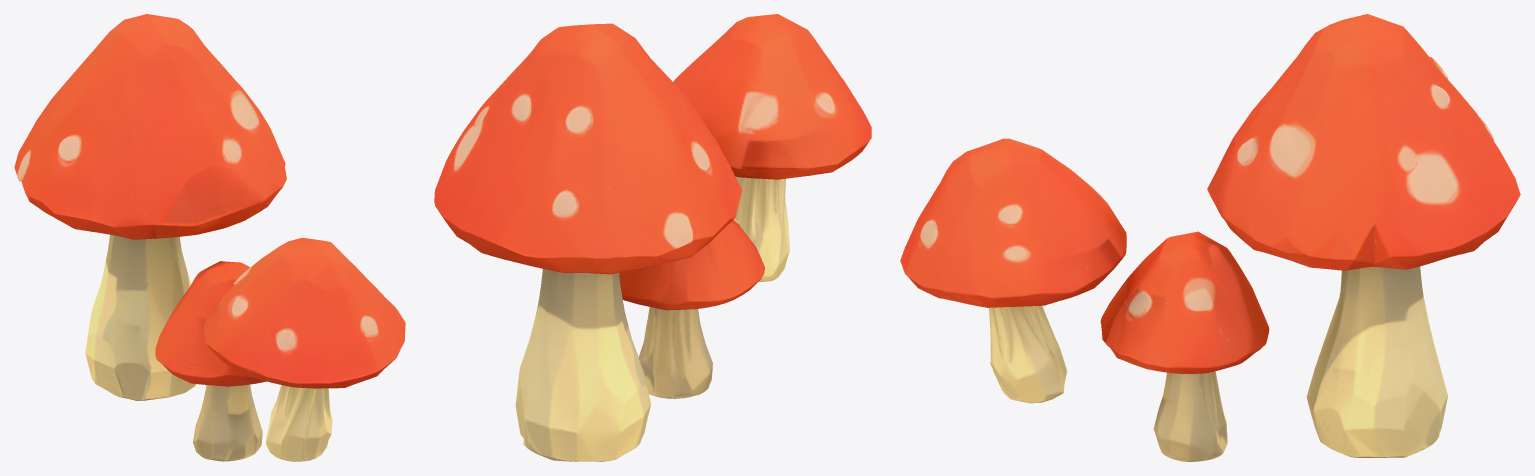
Rendered from base_basic_shaded.fbx.
3 views of the same model, side by side, from view 1: azimuth 30°, elevation 25°; view 2: azimuth 150°, elevation 25°; view 3: azimuth 270°, elevation 25° (orthographic). The views are drawn at different scales.
Visible parts, largest first — view 1: geometry_0; view 2: geometry_0; view 3: geometry_0.
Boxes of the visible parts, x1,y1,x2,y2 form: geometry_0: [14, 14, 405, 461]; geometry_0: [434, 14, 871, 461]; geometry_0: [900, 14, 1520, 461].
Size of the model in its own units: 95.84 by 147 by 190.
